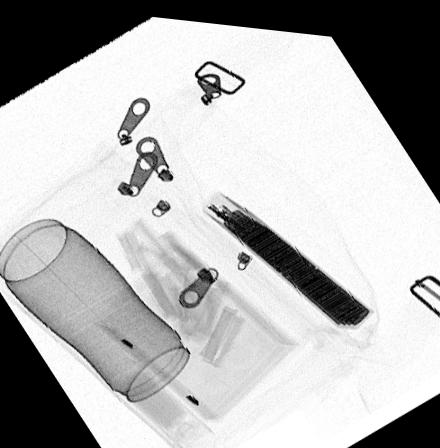Powerbank: (199, 185, 374, 320)
